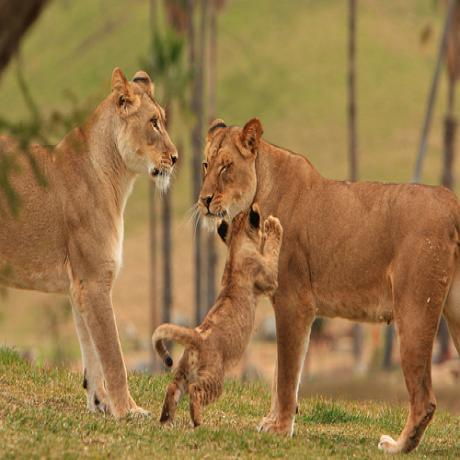Lion: (198, 115, 460, 455), (0, 66, 180, 416), (161, 209, 286, 426)
